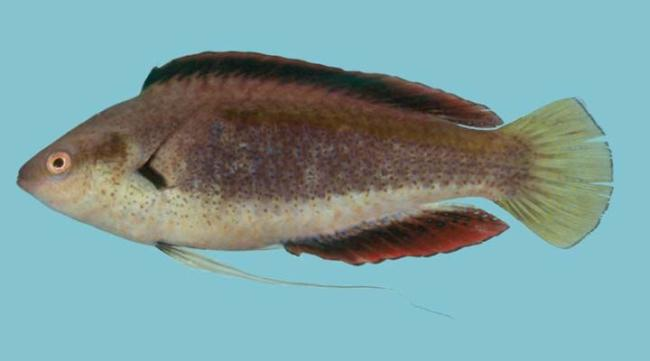fish: (16, 51, 614, 290)
